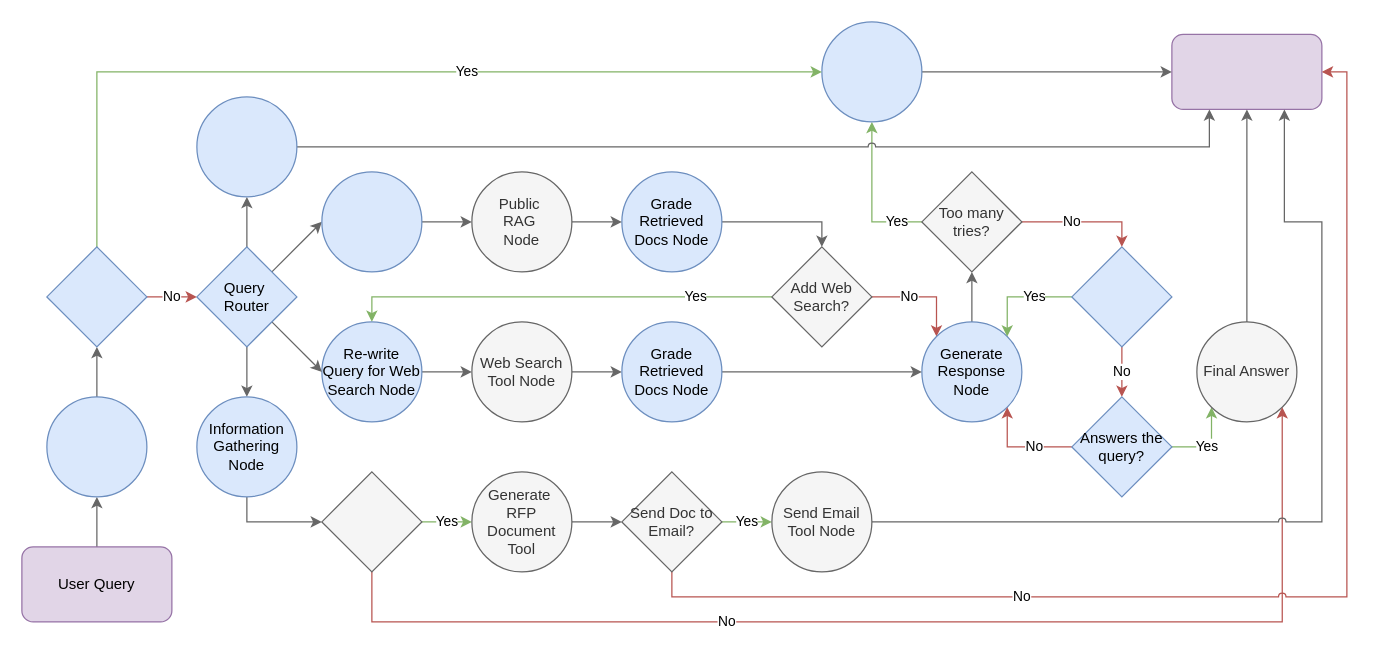
Some shapes in this 1379 by 654 pixel diagram are drawn without their labels. The centre of each missing label's shape, as x and y in pixels:
"AI Answer" goes at (1246,71).
"Generate Simple Response Node" goes at (246,146).
"Hallucination?" goes at (1121,296).
"Image Parsing Node" goes at (96,446).
"Moderation needed?" goes at (96,296).
"Re-write Query for RAG Node" goes at (371,221).
"Refined Query Request Node" goes at (871,71).
"Required Information collected?" goes at (371,521).
